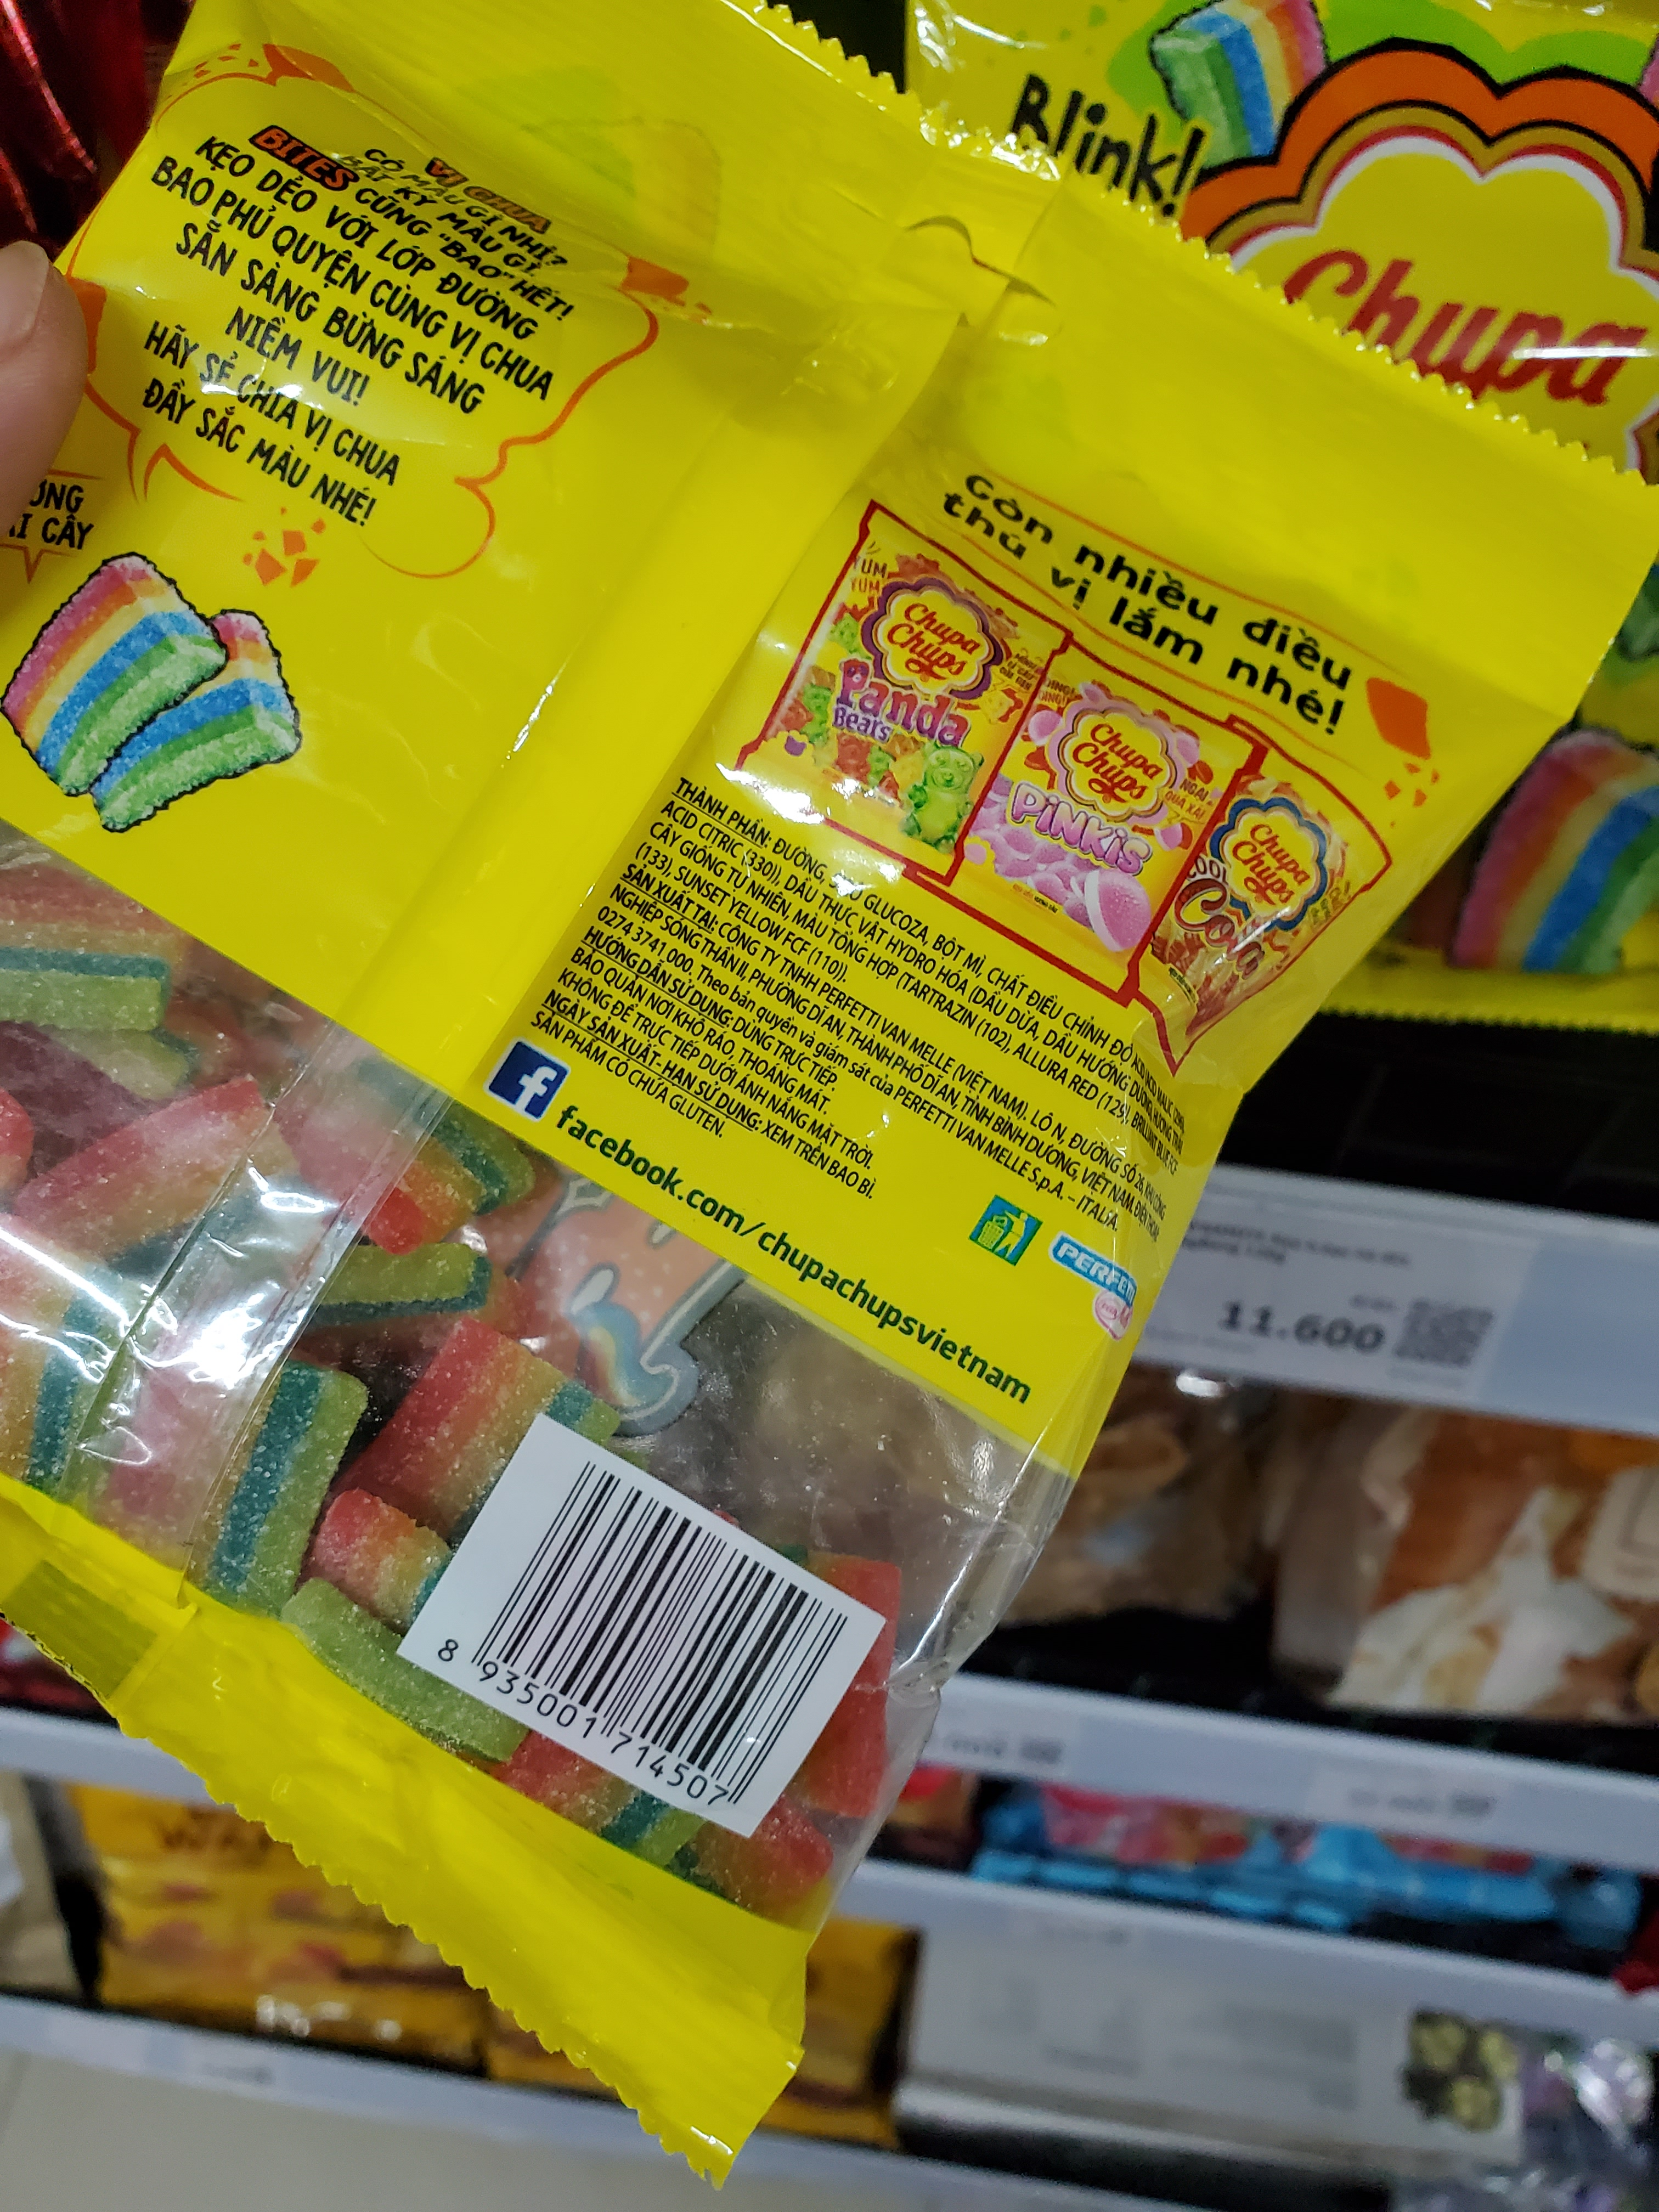barcode: (415, 1446, 856, 1855)
